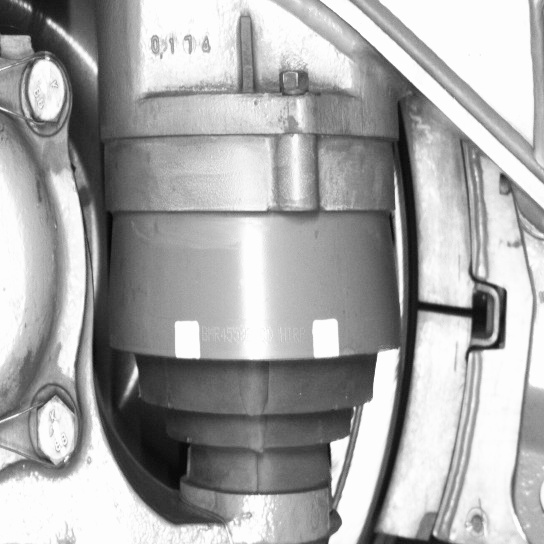KnifeSwitch: (353, 137, 482, 542)
